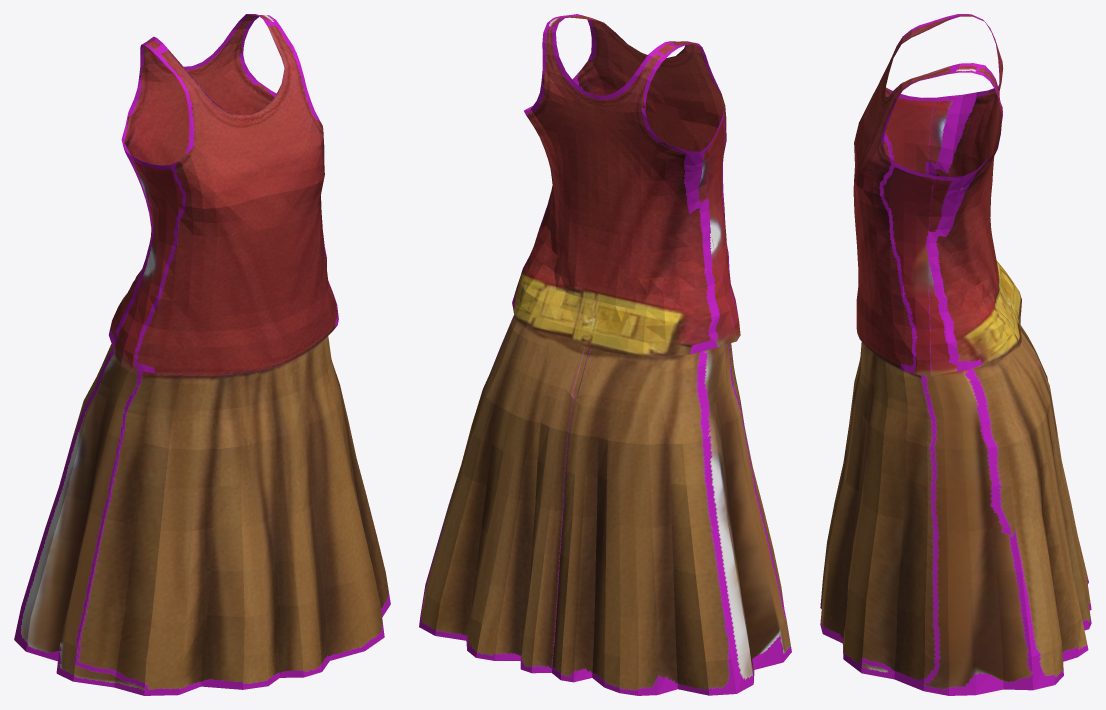
3 views of the same model, side by side, from view 1: azimuth 30°, elevation 25°; view 2: azimuth 150°, elevation 25°; view 3: azimuth 270°, elevation 25° (orthographic). The views are drawn at different scales.
Bounding box in the file's own units: 0.5326 × 0.918 × 0.3897.
Materials: 1 (1 with a texture image).
